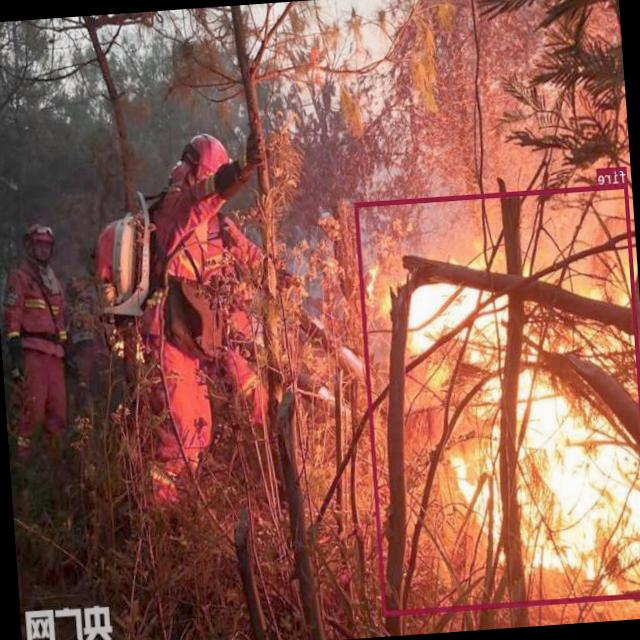fire: (354, 182, 640, 615)
